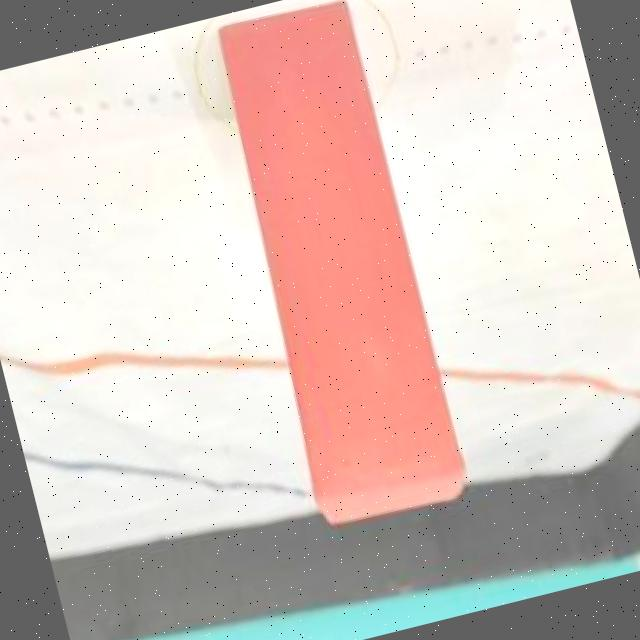redbox: (197, 0, 468, 531)
